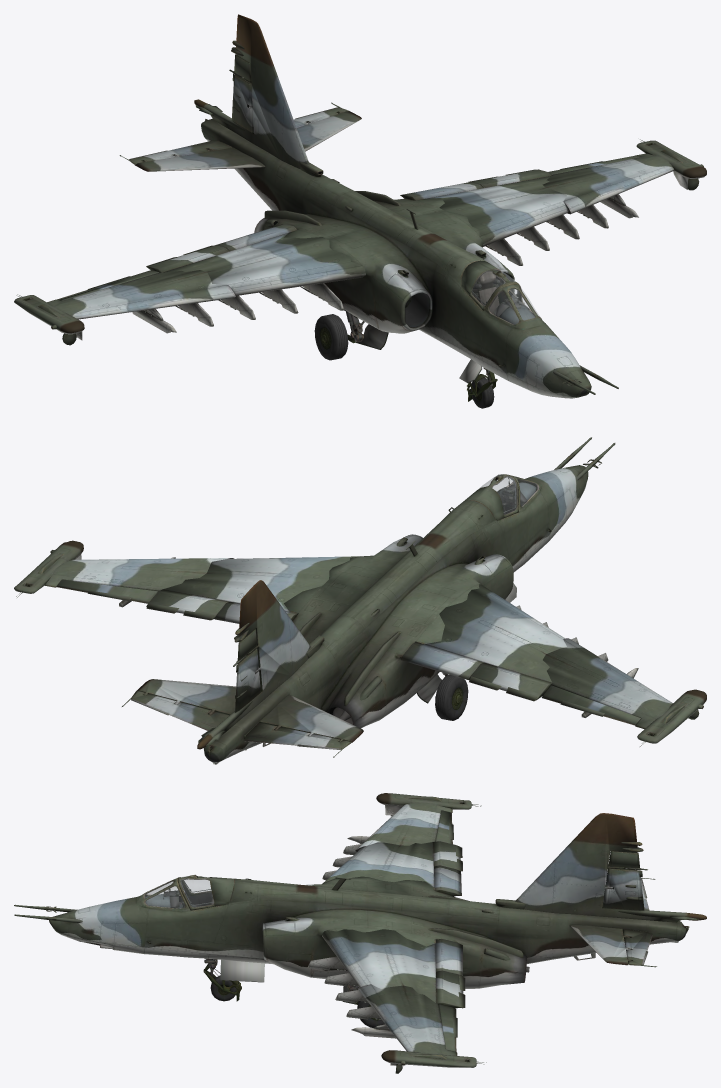
3 renders of one model, top to bottom at view 1: azimuth 30°, elevation 25°; view 2: azimuth 150°, elevation 25°; view 3: azimuth 270°, elevation 25°, orthographic. The views are drawn at different scales.
Visible parts, largest first — view 1: Object_2, Object_5; view 2: Object_2, Object_5; view 3: Object_2, Object_5.
Part boxes in pixels (<box>): Object_2: <box>14,14,706,408</box>; Object_5: <box>471,269,539,324</box>; Object_2: <box>14,437,706,764</box>; Object_5: <box>479,475,538,514</box>; Object_2: <box>14,793,706,1073</box>; Object_5: <box>144,876,213,908</box>.
Bounding box in the file's own units: 294 × 95.79 × 319.
2 materials, 2 textured.
